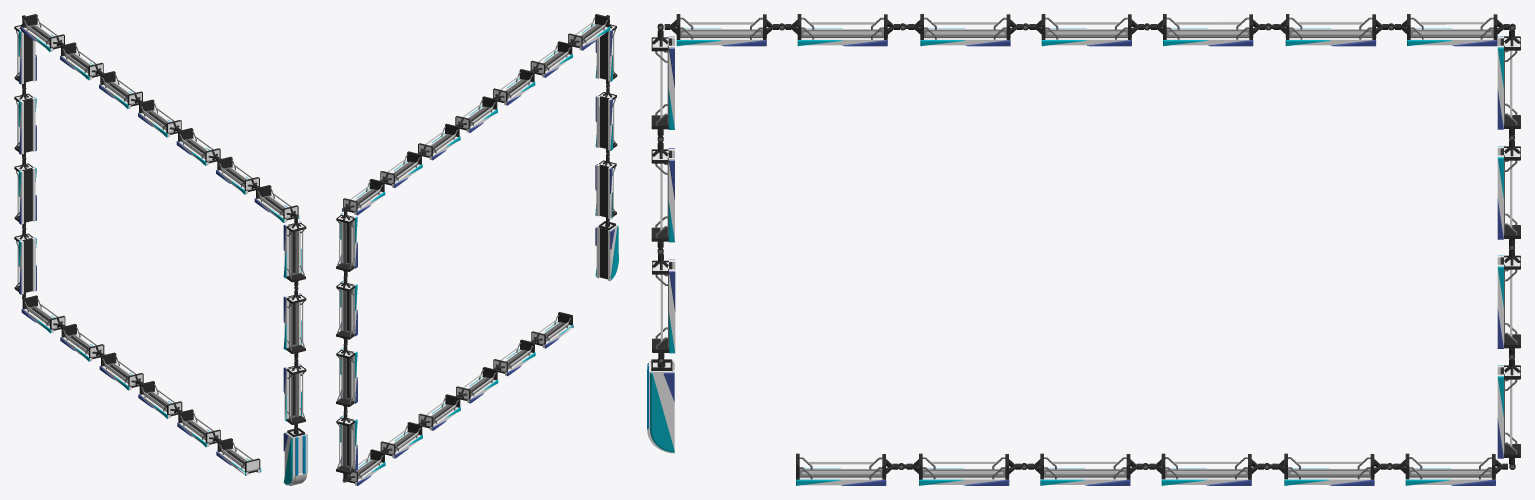
Rendered from train6.fbx.
3 views of the same model, side by side, from view 1: azimuth 30°, elevation 25°; view 2: azimuth 150°, elevation 25°; view 3: azimuth 270°, elevation 25° (orthographic). The views are drawn at different scales.
Visible parts, largest first — view 1: Cube.032; view 2: Cube.032; view 3: Cube.032.
Boxes of the visible parts, bbox=[...] form: Cube.032: bbox=[14, 14, 307, 485]; Cube.032: bbox=[336, 14, 618, 485]; Cube.032: bbox=[647, 14, 1520, 485].
Size of the model in its own units: 1190 by 20063 by 34491.
